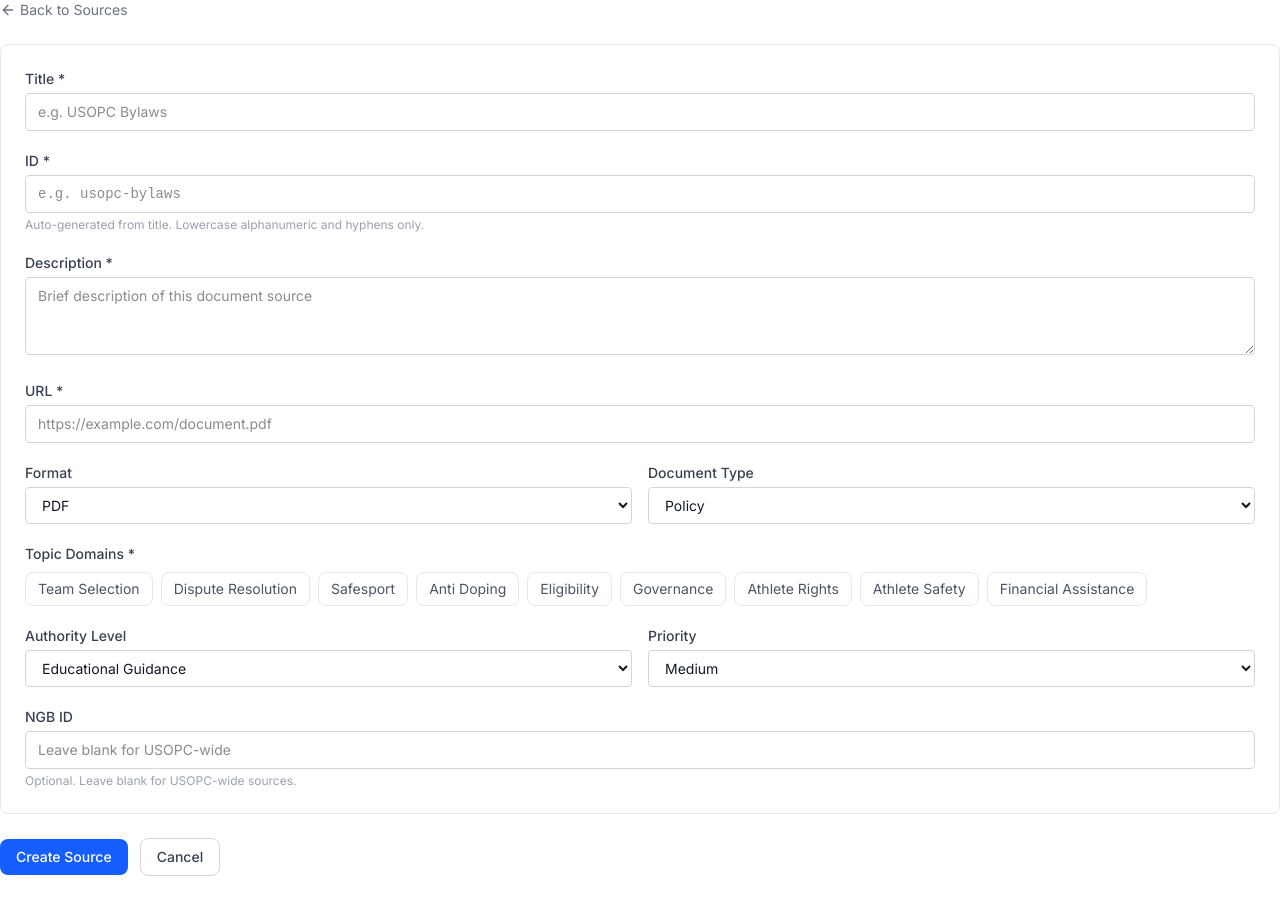
CreateSourceForm › shows validation error for invalid URL
This screenshot has width=1280, height=900.
In the field labelled "Title *": coordinates (640, 112) [25,93,1255,131], type "Test"
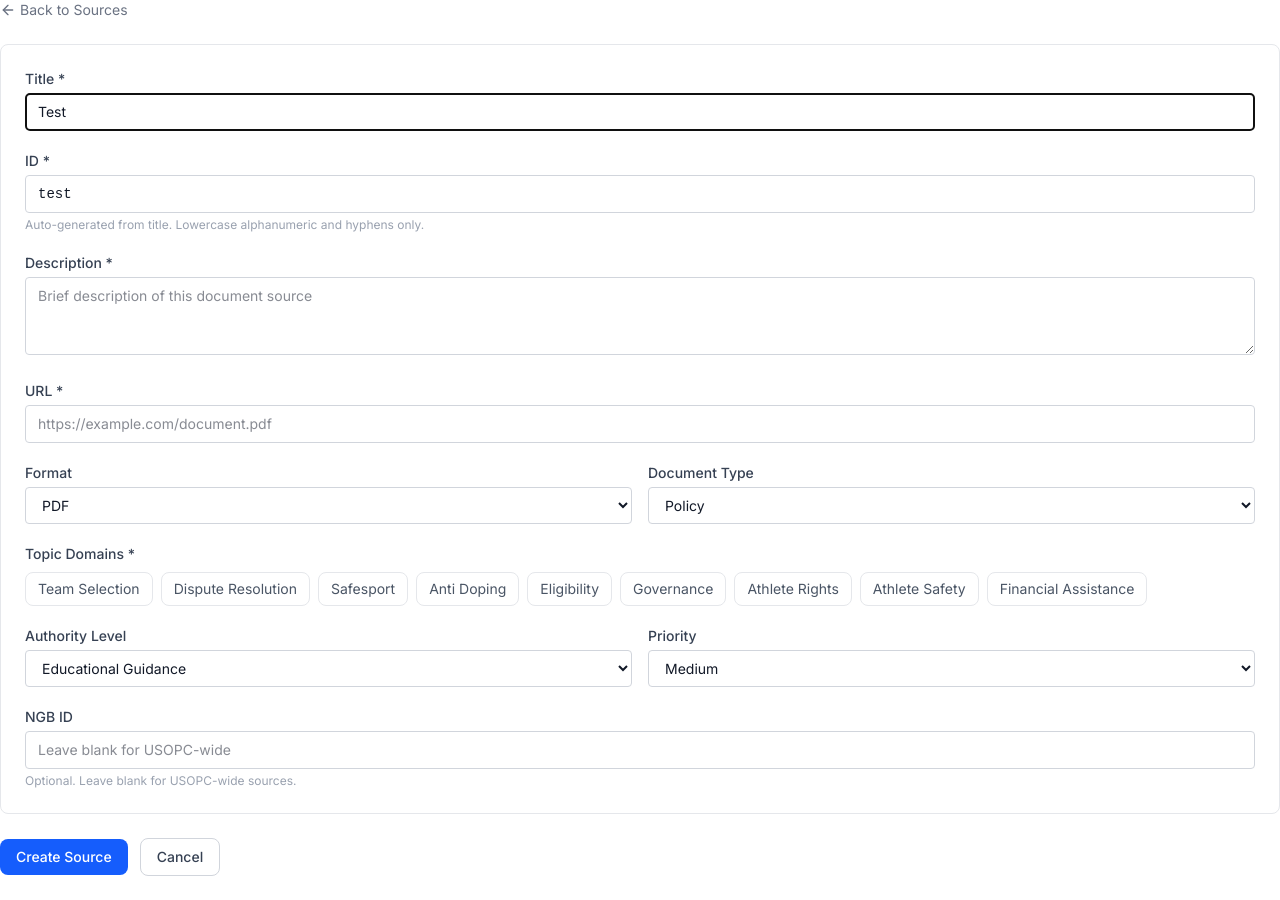
In the text box labelled "Description *": coordinates (640, 316) [25,277,1255,355], type "A test"
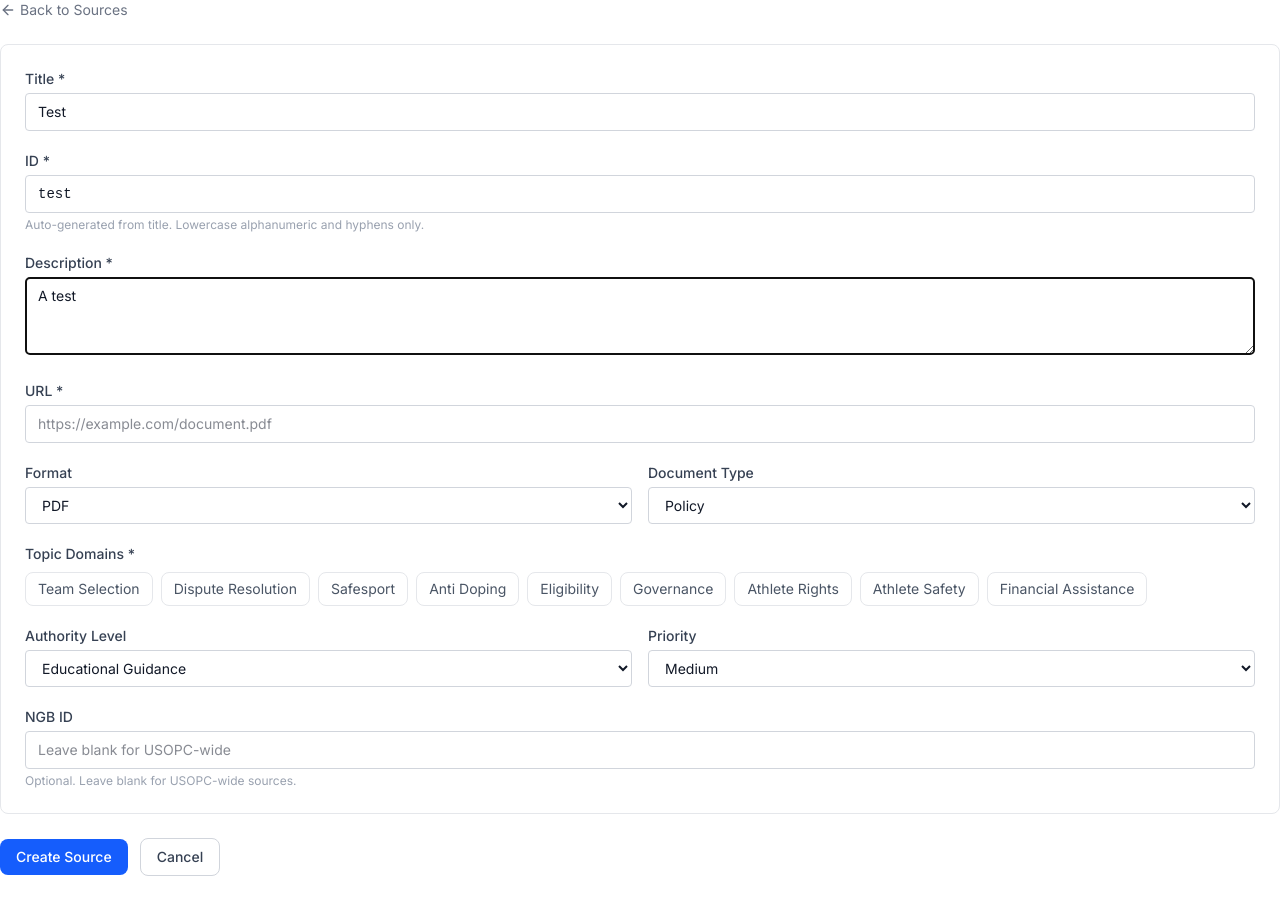
In the field labelled "URL *": coordinates (640, 424) [25,405,1255,443], type "not-a-url"
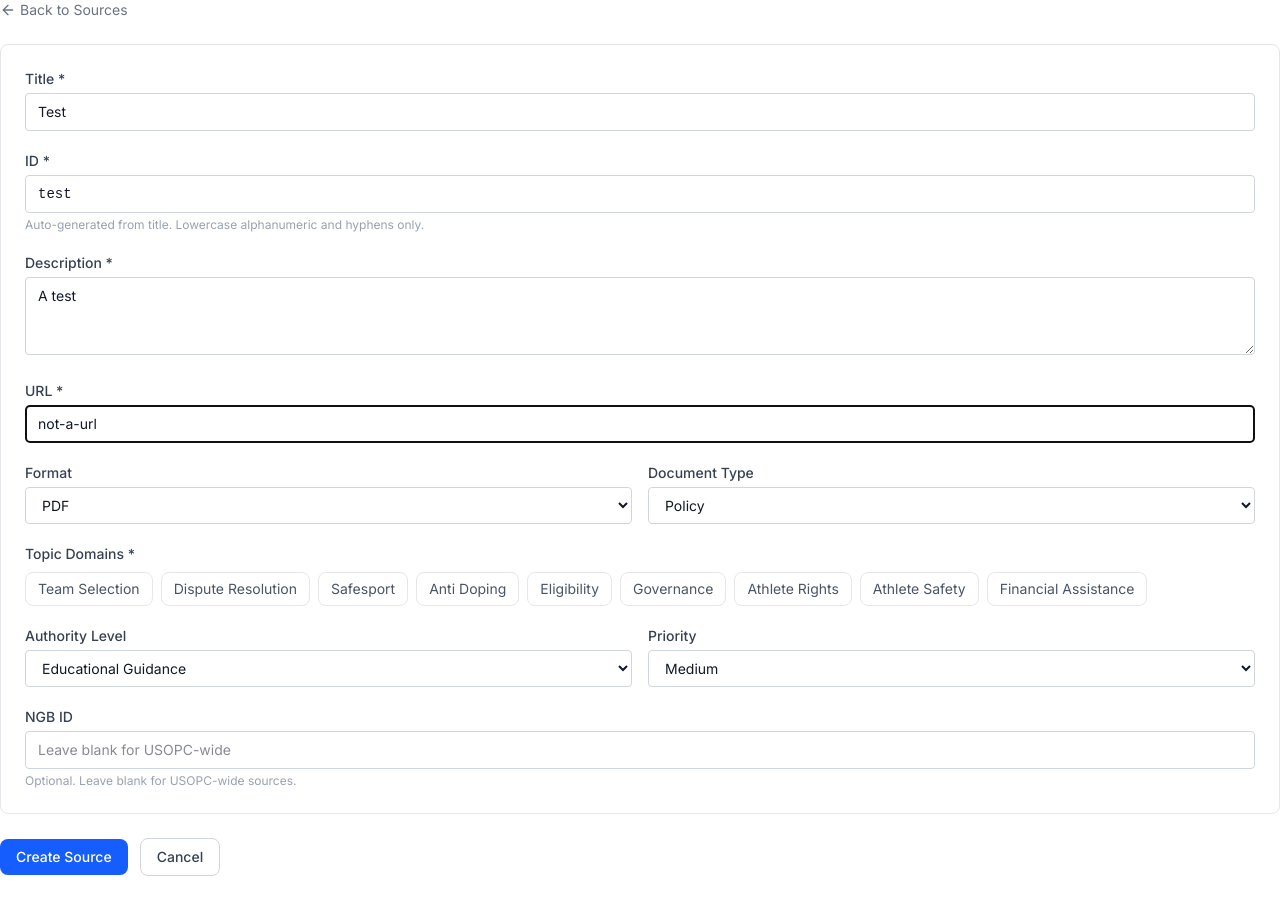
Click the checkbox "Governance": coordinates (673, 589) [620,572,726,606]
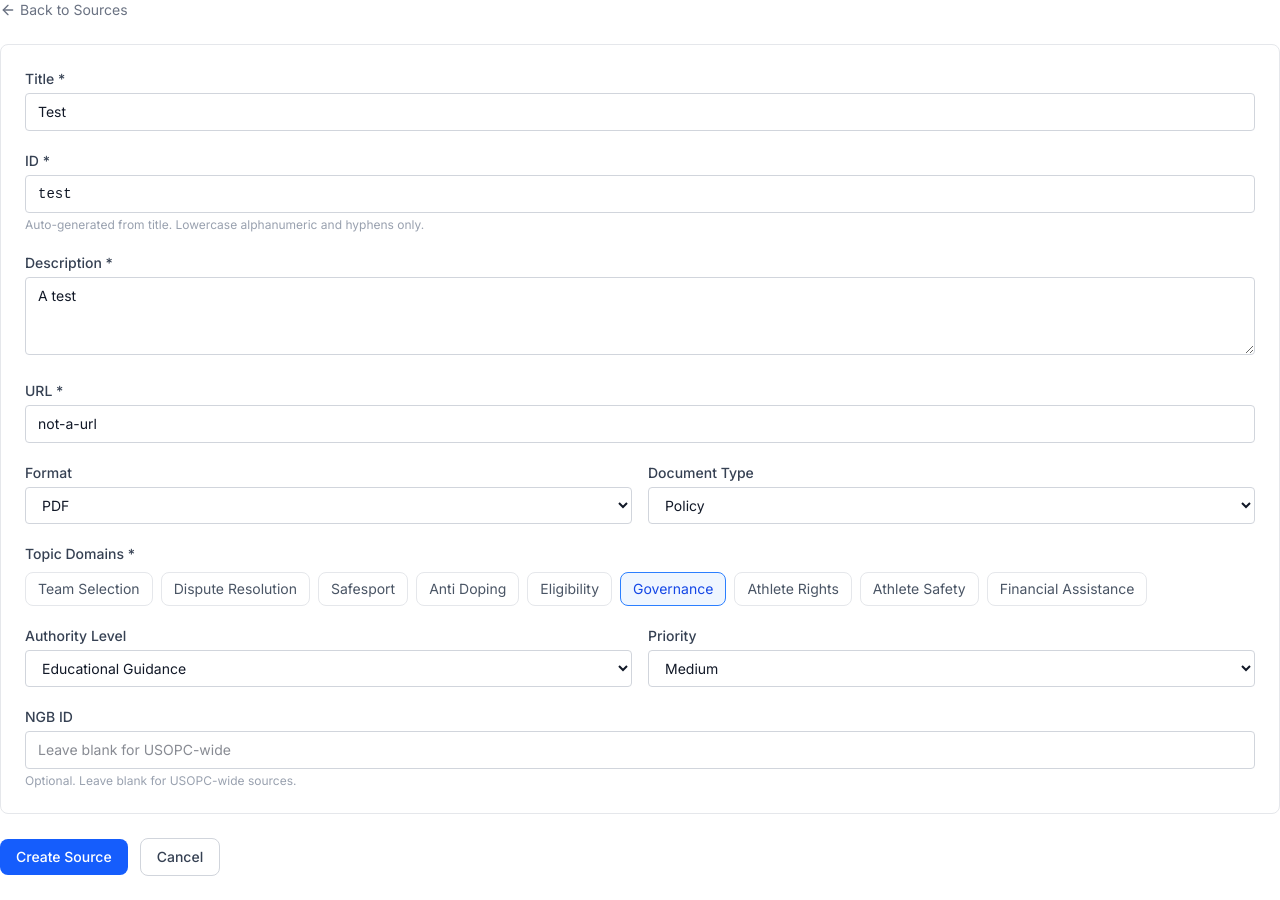
Click the button "Create Source": coordinates (64, 857) [0,839,128,875]
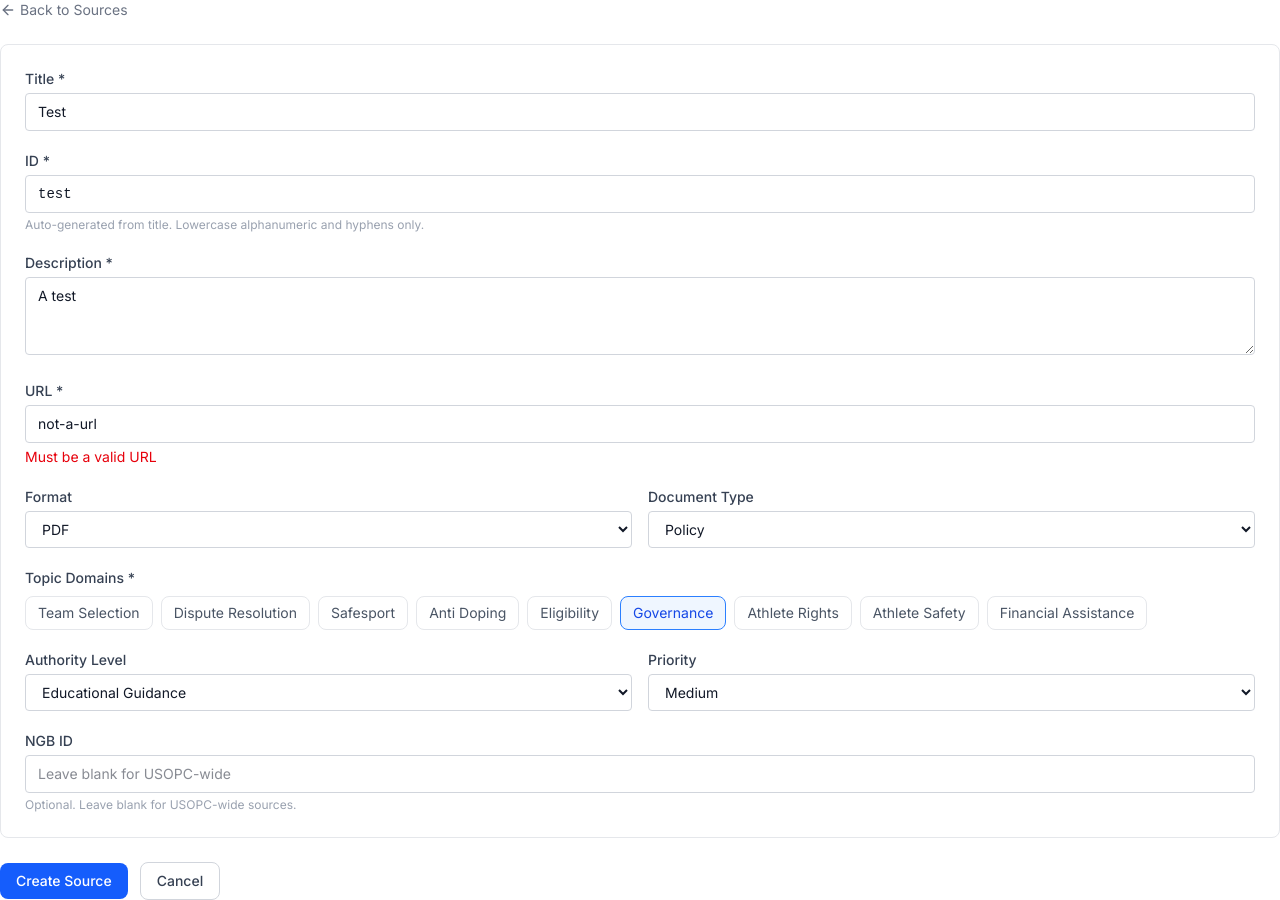
Expected: the text "Must be a valid URL" is shown, [25,448,157,465]
